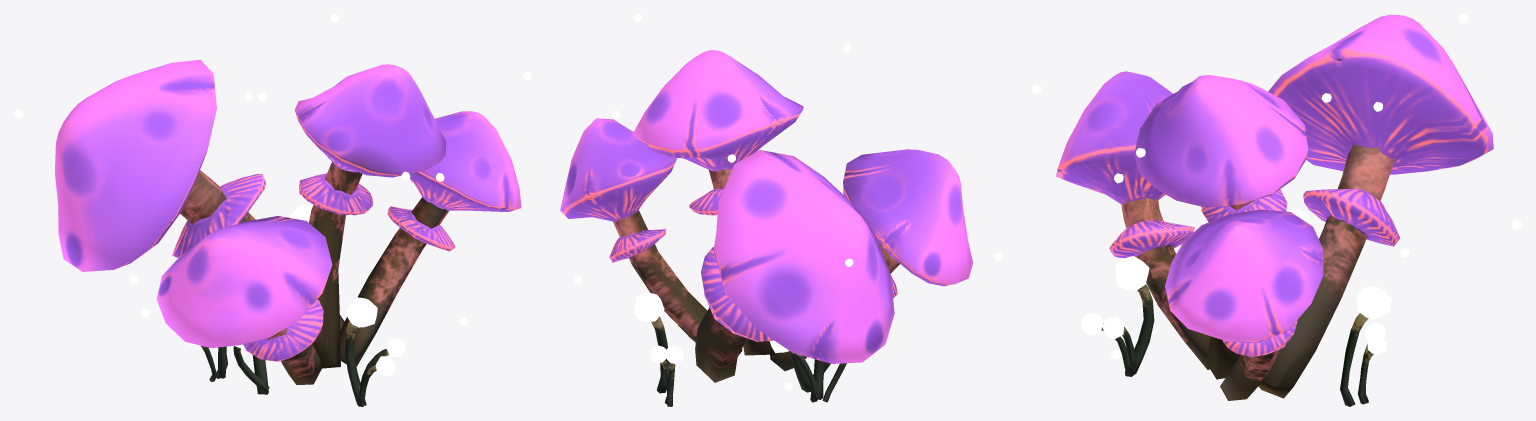
File: grib 3,0.fbx
3 renders of one model, left to right at view 1: azimuth 30°, elevation 25°; view 2: azimuth 150°, elevation 25°; view 3: azimuth 270°, elevation 25°, orthographic. The views are drawn at different scales.
Visible parts, largest first — view 1: LP grib+.006, LP grib+.001; view 2: LP grib+.006, LP grib+.001; view 3: LP grib+.006, LP grib+.001.
Boxes of the visible parts, x1,y1,x2,y2 form: LP grib+.006: [54, 59, 521, 406]; LP grib+.001: [14, 14, 531, 375]; LP grib+.006: [560, 50, 972, 406]; LP grib+.001: [574, 14, 1002, 390]; LP grib+.006: [1056, 14, 1493, 406]; LP grib+.001: [1031, 14, 1521, 359].
Size of the model in its own units: 1446 by 1061 by 1377.
